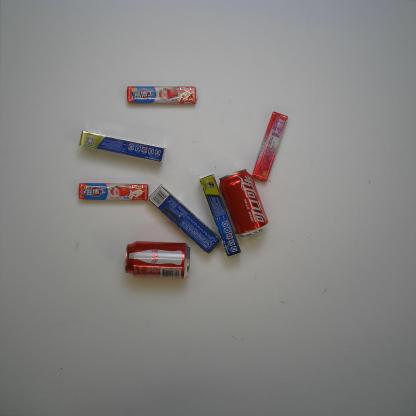Candy: (251, 109, 289, 184), (78, 180, 150, 202), (126, 85, 200, 106)
Drink: (218, 167, 271, 244), (122, 236, 192, 282)
Personal Hygiene: (146, 182, 221, 256), (196, 172, 242, 258), (76, 130, 166, 164)
